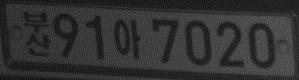0: (247, 21, 276, 68), (184, 19, 212, 66)
1: (83, 15, 109, 60)
2: (215, 20, 245, 67)
7: (152, 18, 179, 63)
9: (52, 12, 80, 58)
부산_V: (23, 10, 51, 58)
아: (113, 18, 141, 59)
